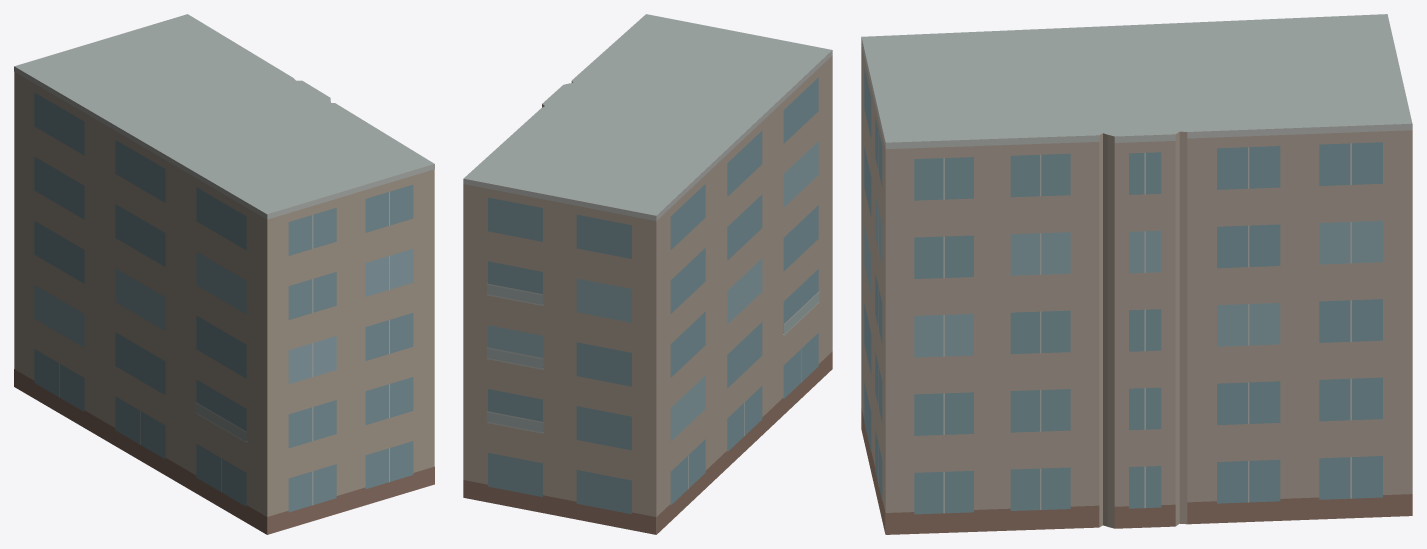
Rendered from survey-upis-32629592.glb.
3 views of the same model, side by side, from view 1: azimuth 30°, elevation 25°; view 2: azimuth 150°, elevation 25°; view 3: azimuth 270°, elevation 25° (orthographic). The views are drawn at different scales.
Visible parts, largest first — view 1: survey-upis-32629592.tmp; view 2: survey-upis-32629592.tmp; view 3: survey-upis-32629592.tmp.
Boxes of the visible parts, x1,y1,x2,y2 form: survey-upis-32629592.tmp: (14, 14, 434, 534); survey-upis-32629592.tmp: (463, 14, 832, 534); survey-upis-32629592.tmp: (861, 14, 1412, 534).
Size of the model in its own units: 10.39 by 14.75 by 18.79.
